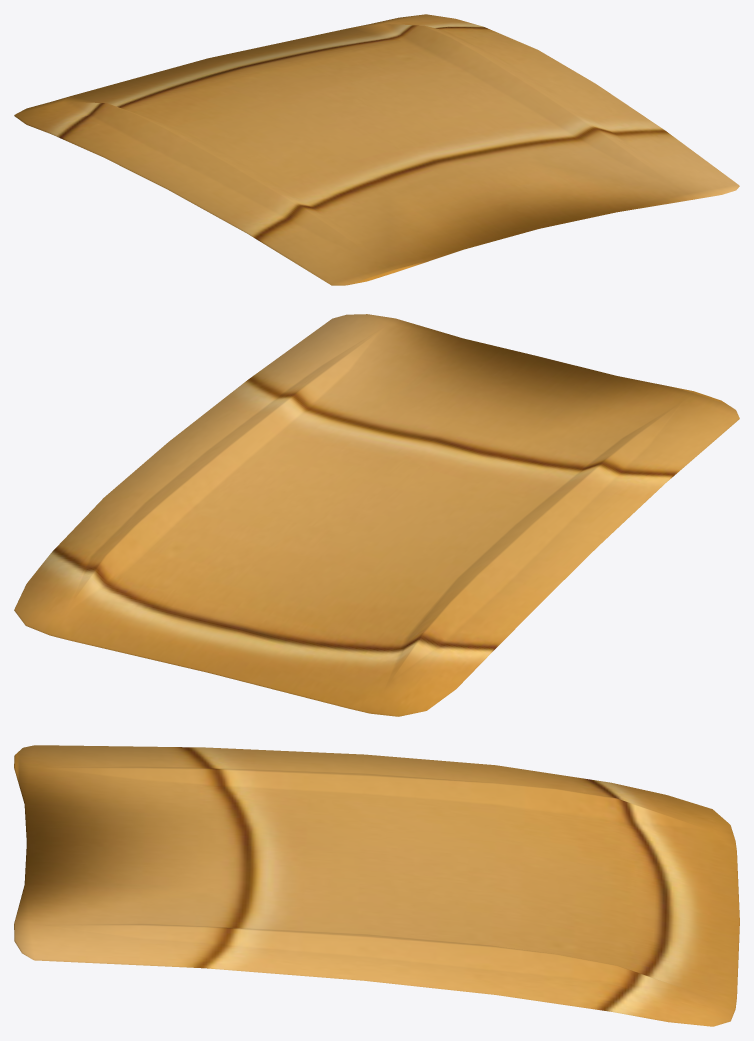
File: cofre.obj
3 renders of one model, top to bottom at view 1: azimuth 30°, elevation 25°; view 2: azimuth 150°, elevation 25°; view 3: azimuth 270°, elevation 25°, orthographic. The views are drawn at different scales.
Parts seen in each view (by area): view 1: cofre_nodamage; view 2: cofre_nodamage; view 3: cofre_nodamage.
Boxes of the visible parts, bbox=[...] form: cofre_nodamage: bbox=[14, 14, 739, 285]; cofre_nodamage: bbox=[14, 314, 739, 716]; cofre_nodamage: bbox=[14, 745, 739, 1026].
Size of the model in its own units: 51.77 by 8.8 by 69.37.
